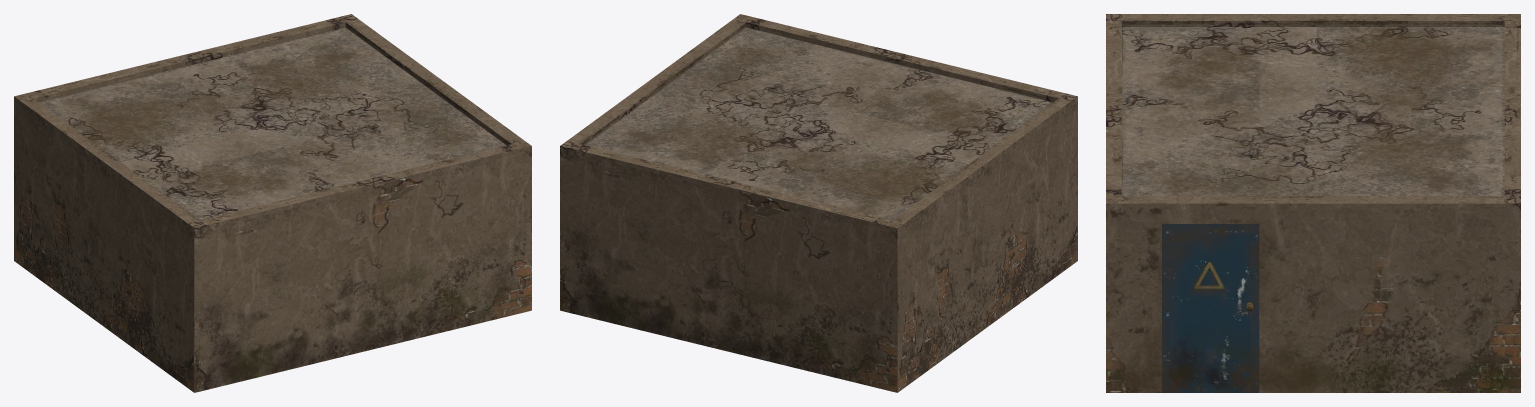
Rendered from base_checkpoint.glb.
The picture shows the model from 3 angles, left to right: view 1: azimuth 30°, elevation 25°; view 2: azimuth 150°, elevation 25°; view 3: azimuth 270°, elevation 25°; orthographic projection. The views are drawn at different scales.
Visible parts, largest first — view 1: base_checkpoint; view 2: base_checkpoint; view 3: base_checkpoint.
Boxes of the visible parts, x1,y1,x2,y2 form: base_checkpoint: (14, 14, 531, 392); base_checkpoint: (560, 14, 1077, 392); base_checkpoint: (1106, 14, 1520, 392).
Size of the model in its own units: 5.62 by 2.58 by 5.12.
Materials: 1 (1 with a texture image).
